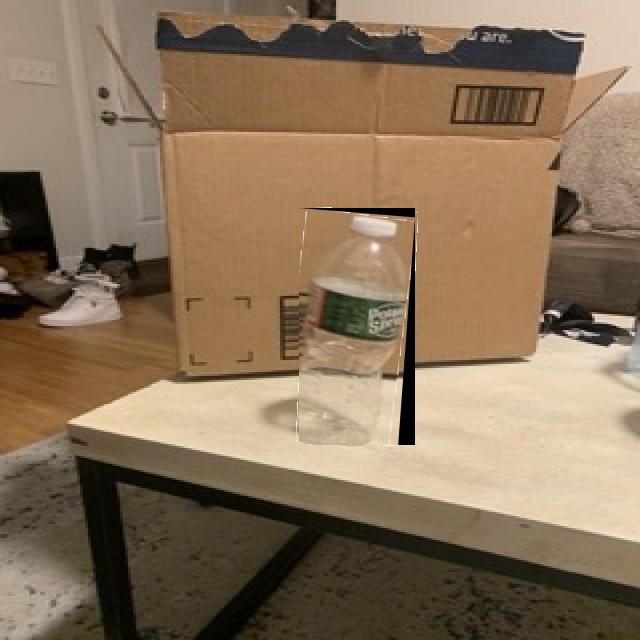water_bottle: (300, 208, 416, 445)
